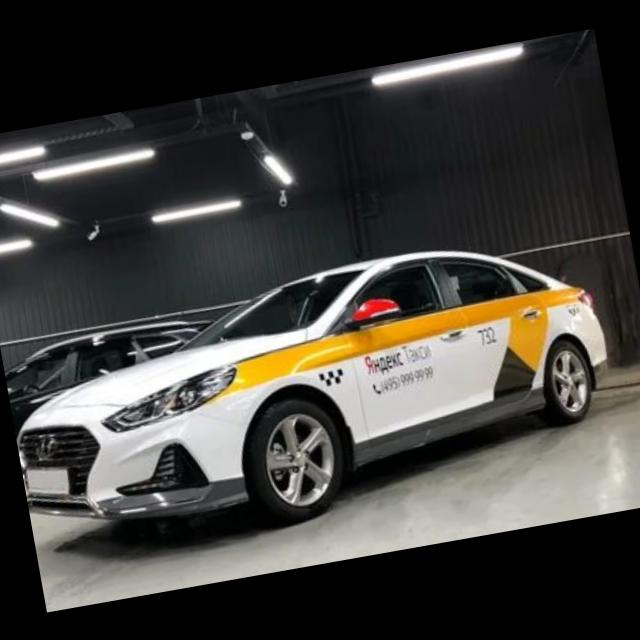taxi: (1, 221, 628, 568)
